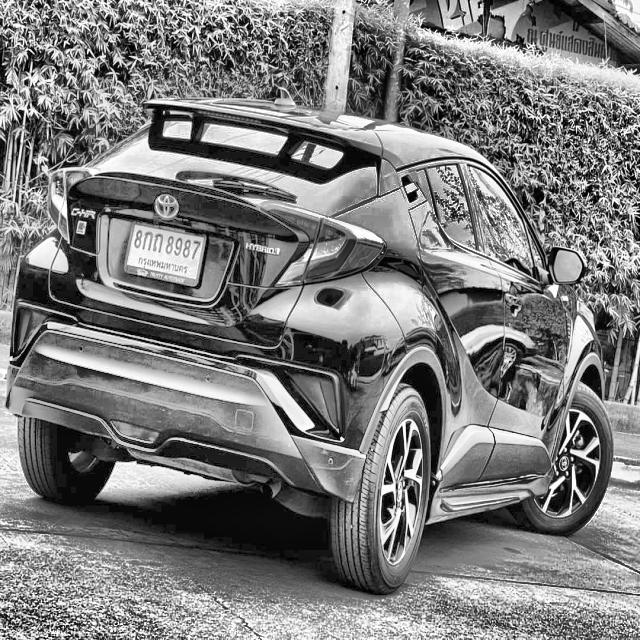license-plate: (121, 213, 206, 291)
